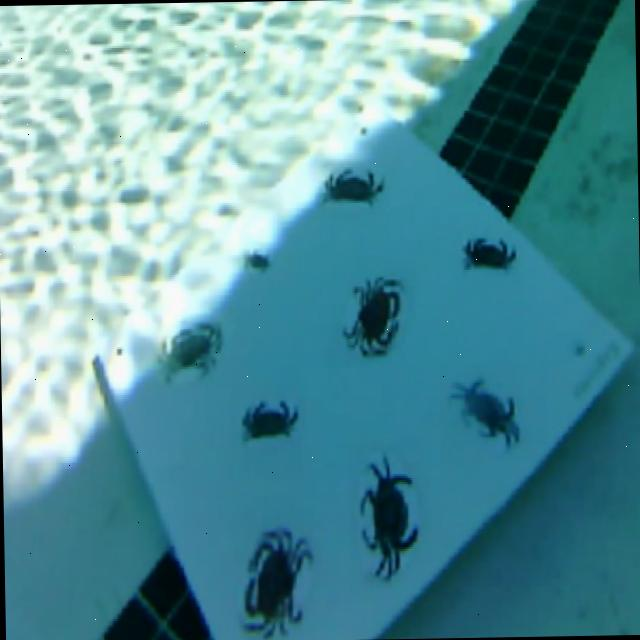green_crab: (348, 449, 425, 586), (448, 365, 524, 450), (234, 234, 277, 280)
jonah_crab: (234, 520, 313, 636), (336, 271, 414, 365), (151, 312, 232, 382)
rock_crab: (318, 153, 386, 205), (235, 393, 300, 444), (458, 230, 522, 277)
